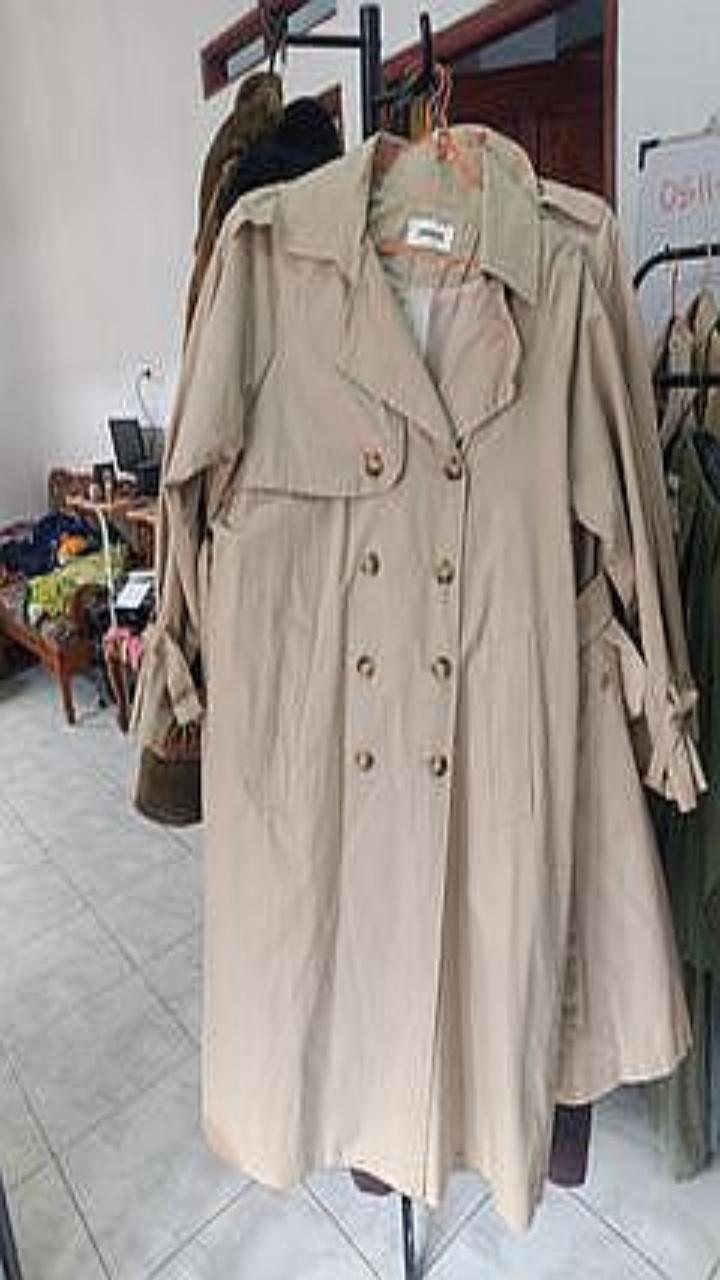Coat: (135, 127, 701, 1225)
